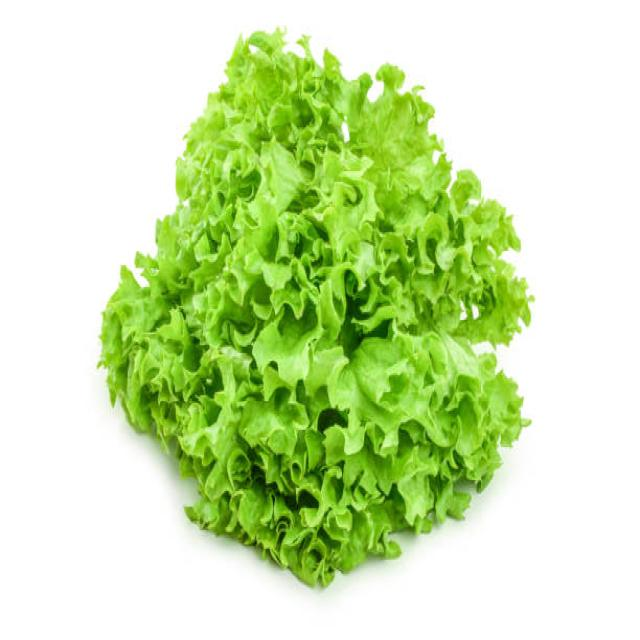Wet Waste: (98, 30, 531, 589)
